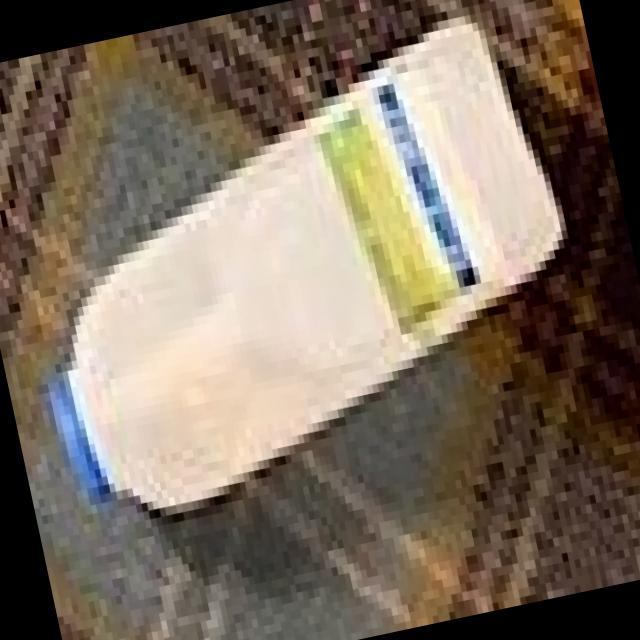HDPE Plastic: (44, 13, 571, 524)
